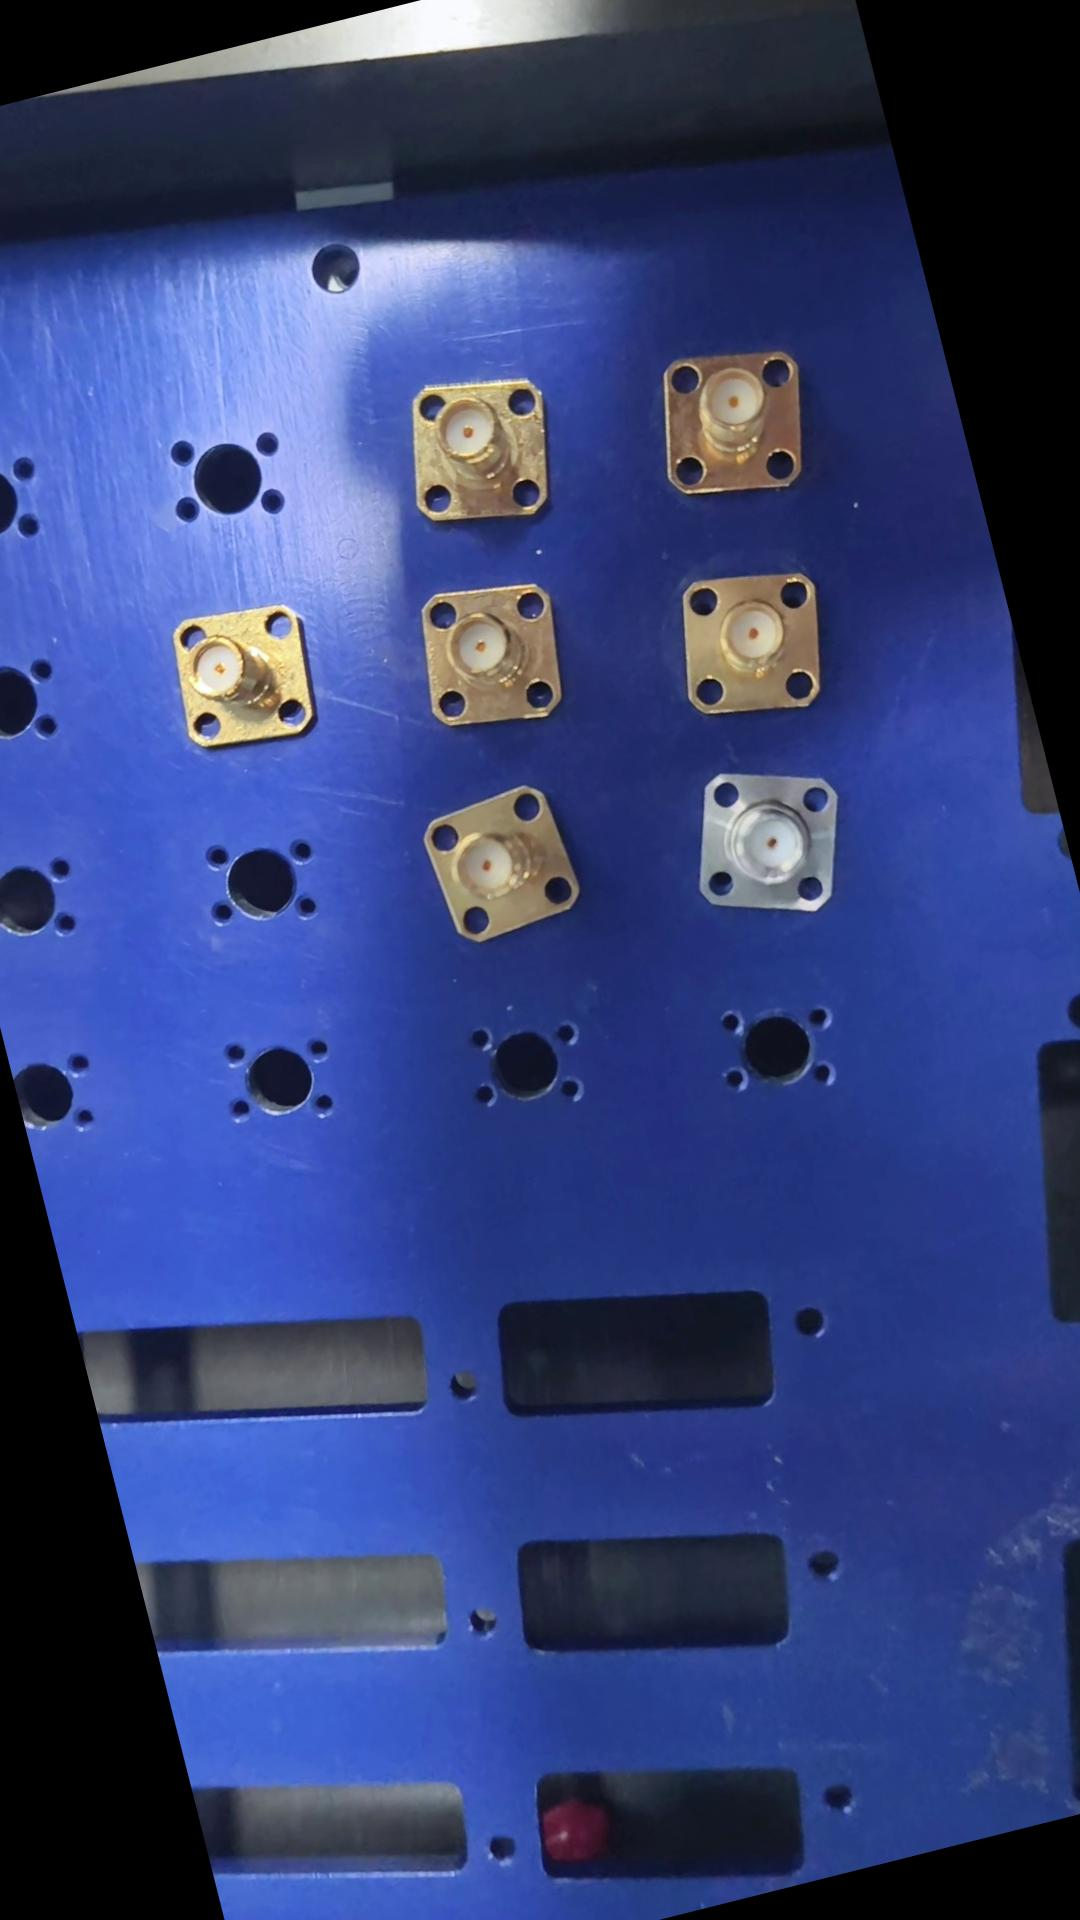SMA: (84, 703, 299, 901), (185, 873, 392, 1076), (433, 761, 629, 956), (328, 578, 517, 769), (0, 516, 196, 699), (236, 401, 426, 589), (554, 467, 735, 659)
